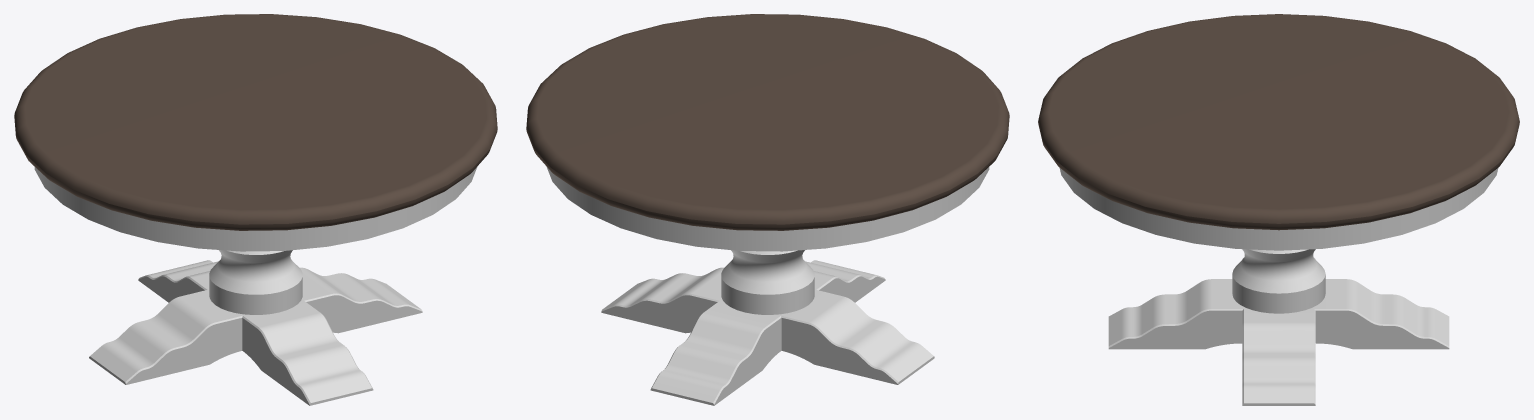
File: TableRonde_30.fbx
3 renders of one model, left to right at view 1: azimuth 30°, elevation 25°; view 2: azimuth 150°, elevation 25°; view 3: azimuth 270°, elevation 25°, orthographic.
Visible parts, largest first — view 1: pCylinder17, pCube21, pCube22, pCube20, pCube23; view 2: pCylinder17, pCube21, pCube23, pCube20, pCube22; view 3: pCylinder17, pCube23, pCube22, pCube20.
Boxes of the visible parts, box(x1,y1,x2,y2) form: pCylinder17: box(14, 14, 497, 314); pCube21: box(89, 290, 242, 384); pCube22: box(241, 301, 373, 405); pCube20: box(206, 267, 422, 333); pCube23: box(138, 260, 218, 302); pCylinder17: box(526, 14, 1009, 314); pCube21: box(781, 290, 934, 384); pCube23: box(650, 301, 782, 405); pCube20: box(601, 267, 817, 333); pCube22: box(805, 260, 885, 302); pCylinder17: box(1038, 14, 1519, 313); pCube23: box(1309, 279, 1449, 349); pCube22: box(1108, 279, 1248, 349); pCube20: box(1242, 309, 1315, 405).
Bounding box in the file's own units: 54.72 × 27.81 × 54.72.
